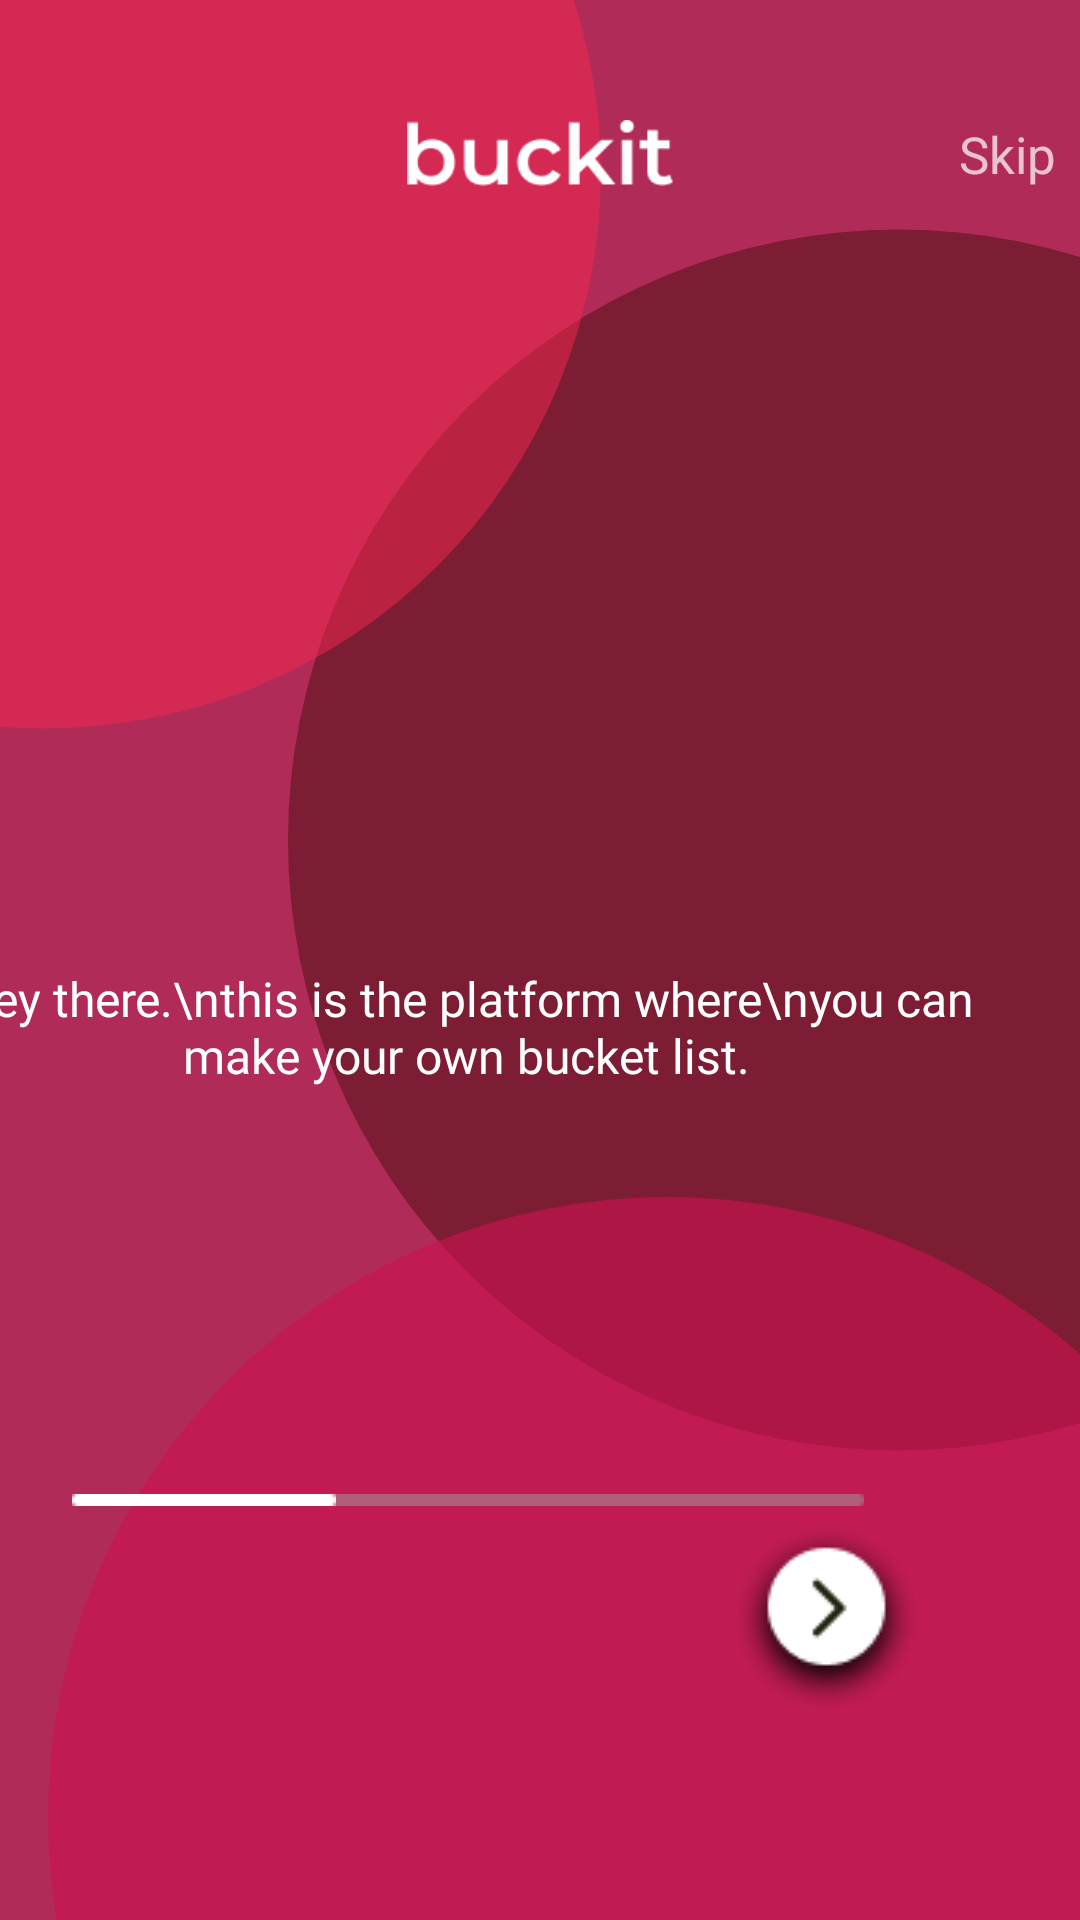

Where to tap for icons on this 1080px×1920px app screen, as point (x, y):
nextbutton: point (826, 1618)
